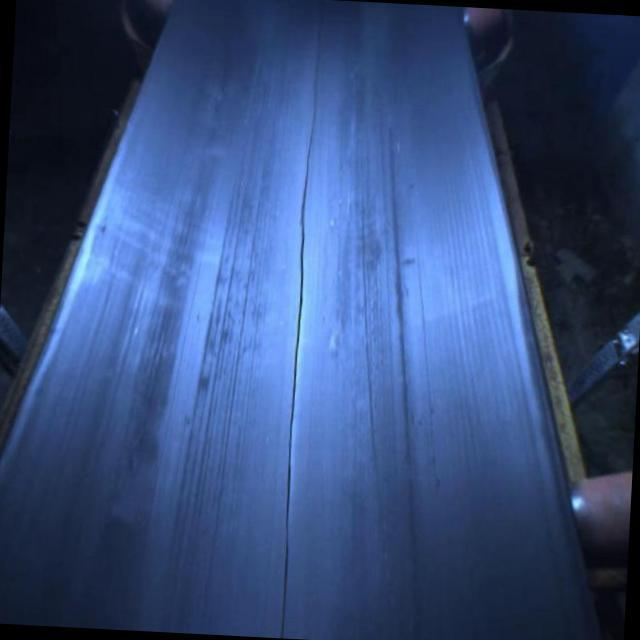Tear: (270, 24, 335, 640)
